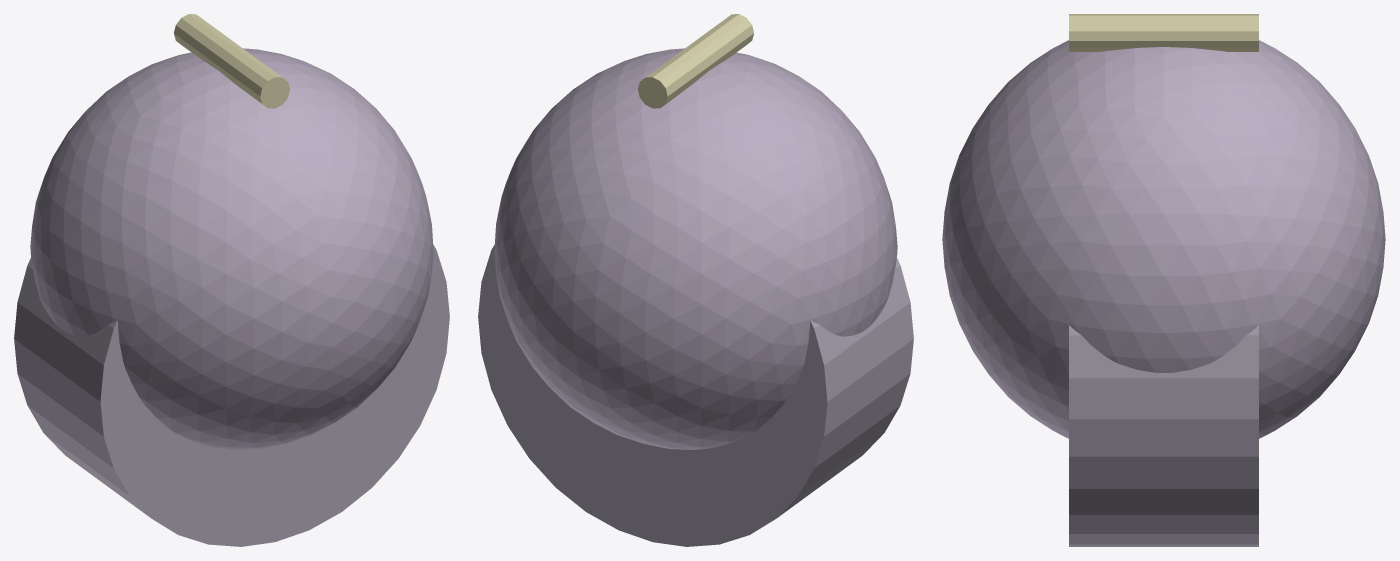
Rendered from culture.glb.
3 renders of one model, left to right at view 1: azimuth 30°, elevation 25°; view 2: azimuth 150°, elevation 25°; view 3: azimuth 270°, elevation 25°, orthographic. The views are drawn at different scales.
Parts seen in each view (by area): view 1: part_2, part_1, part_3; view 2: part_2, part_1, part_3; view 3: part_2, part_1, part_3.
Boxes of the visible parts, x1,y1,x2,y2 form: part_2: (30,48,433,449); part_1: (14,245,449,546); part_3: (174,14,289,108); part_2: (494,48,897,449); part_1: (478,245,913,546); part_3: (638,14,753,108); part_2: (942,40,1385,438); part_1: (1069,325,1258,546); part_3: (1069,14,1258,51).
Size of what is drawn, in the model's own units: 7 by 8.9 by 7.
